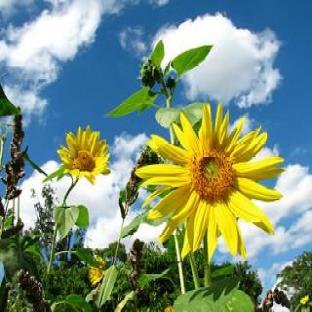sunflower: (136, 104, 286, 264)
